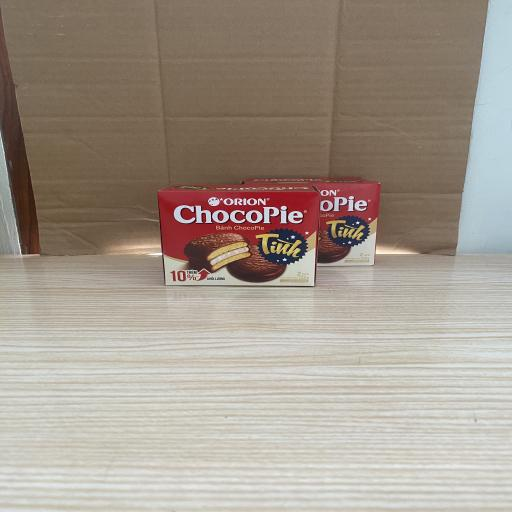chocopie: (157, 184, 321, 287), (241, 177, 381, 266)
